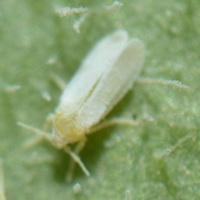insect: (17, 29, 144, 175)
